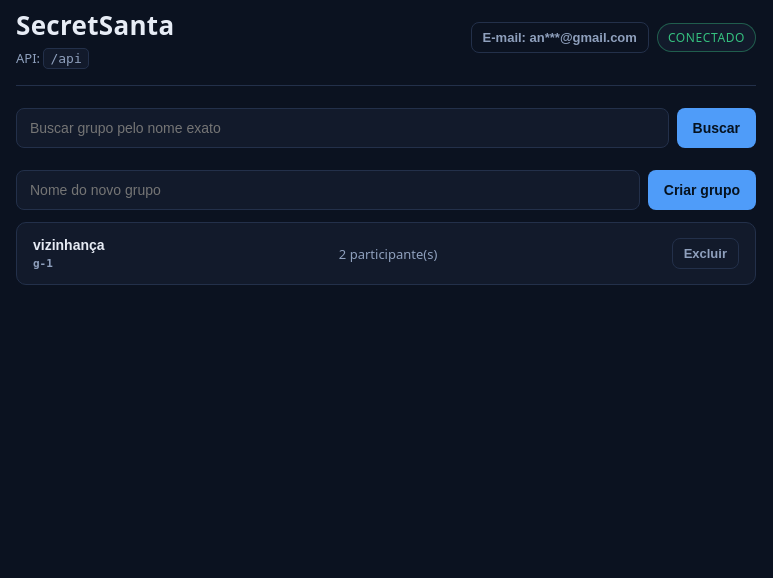
Test: tela do grupo › abre o grupo e mostra os participantes com e-mail
Click the text "vizinhança": (69, 245) [33, 237, 105, 253]
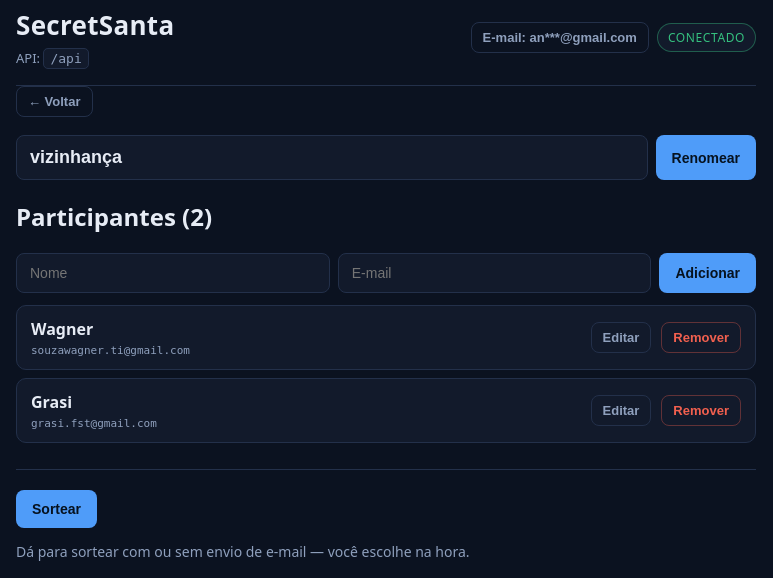
expect the text "Wagner" is shown: met, box [31, 318, 93, 340]
expect the text "grasi.fst@gmail.com" is shown: met, box [31, 417, 157, 430]
expect the heading "Participantes (2)" is shown: met, box [16, 200, 212, 233]
